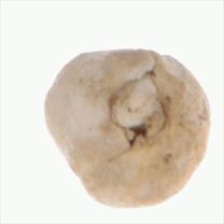L3: (111, 66, 174, 152)
L4: (45, 48, 210, 208)
